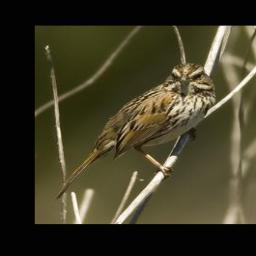Sparrow: (55, 63, 217, 201)
